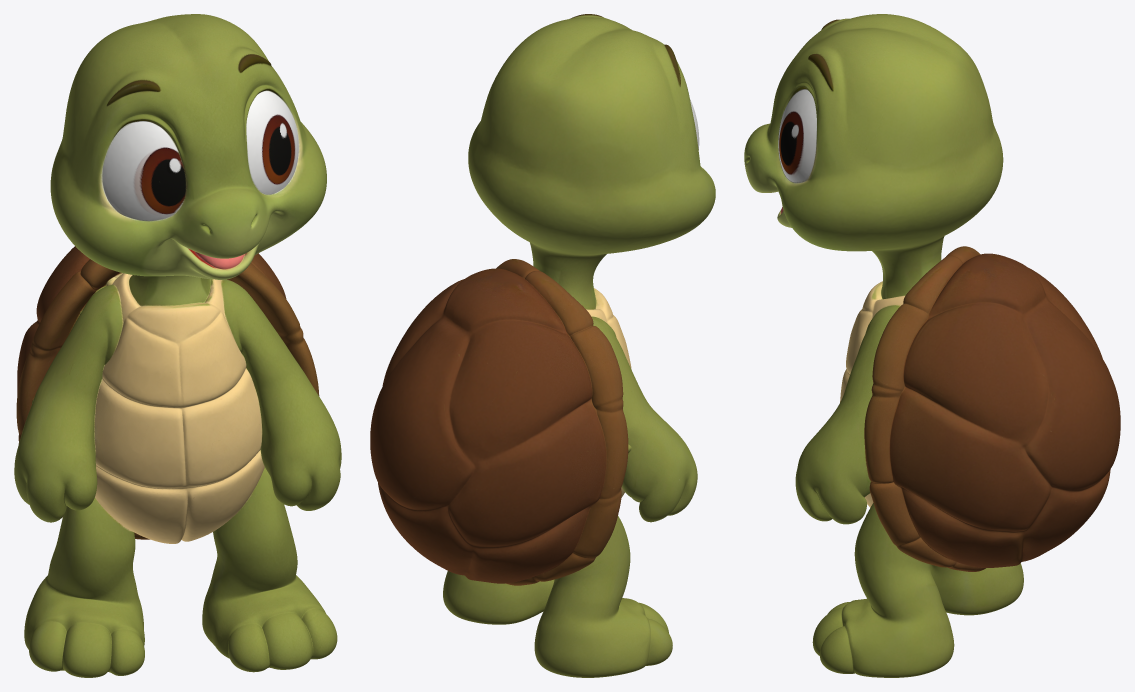
File: tortuga.glb
3 renders of one model, left to right at view 1: azimuth 30°, elevation 25°; view 2: azimuth 150°, elevation 25°; view 3: azimuth 270°, elevation 25°, orthographic. The views are drawn at different scales.
Size of the model in its own units: 0.9169 by 1.9 by 1.1.
1 material, 1 textured.
